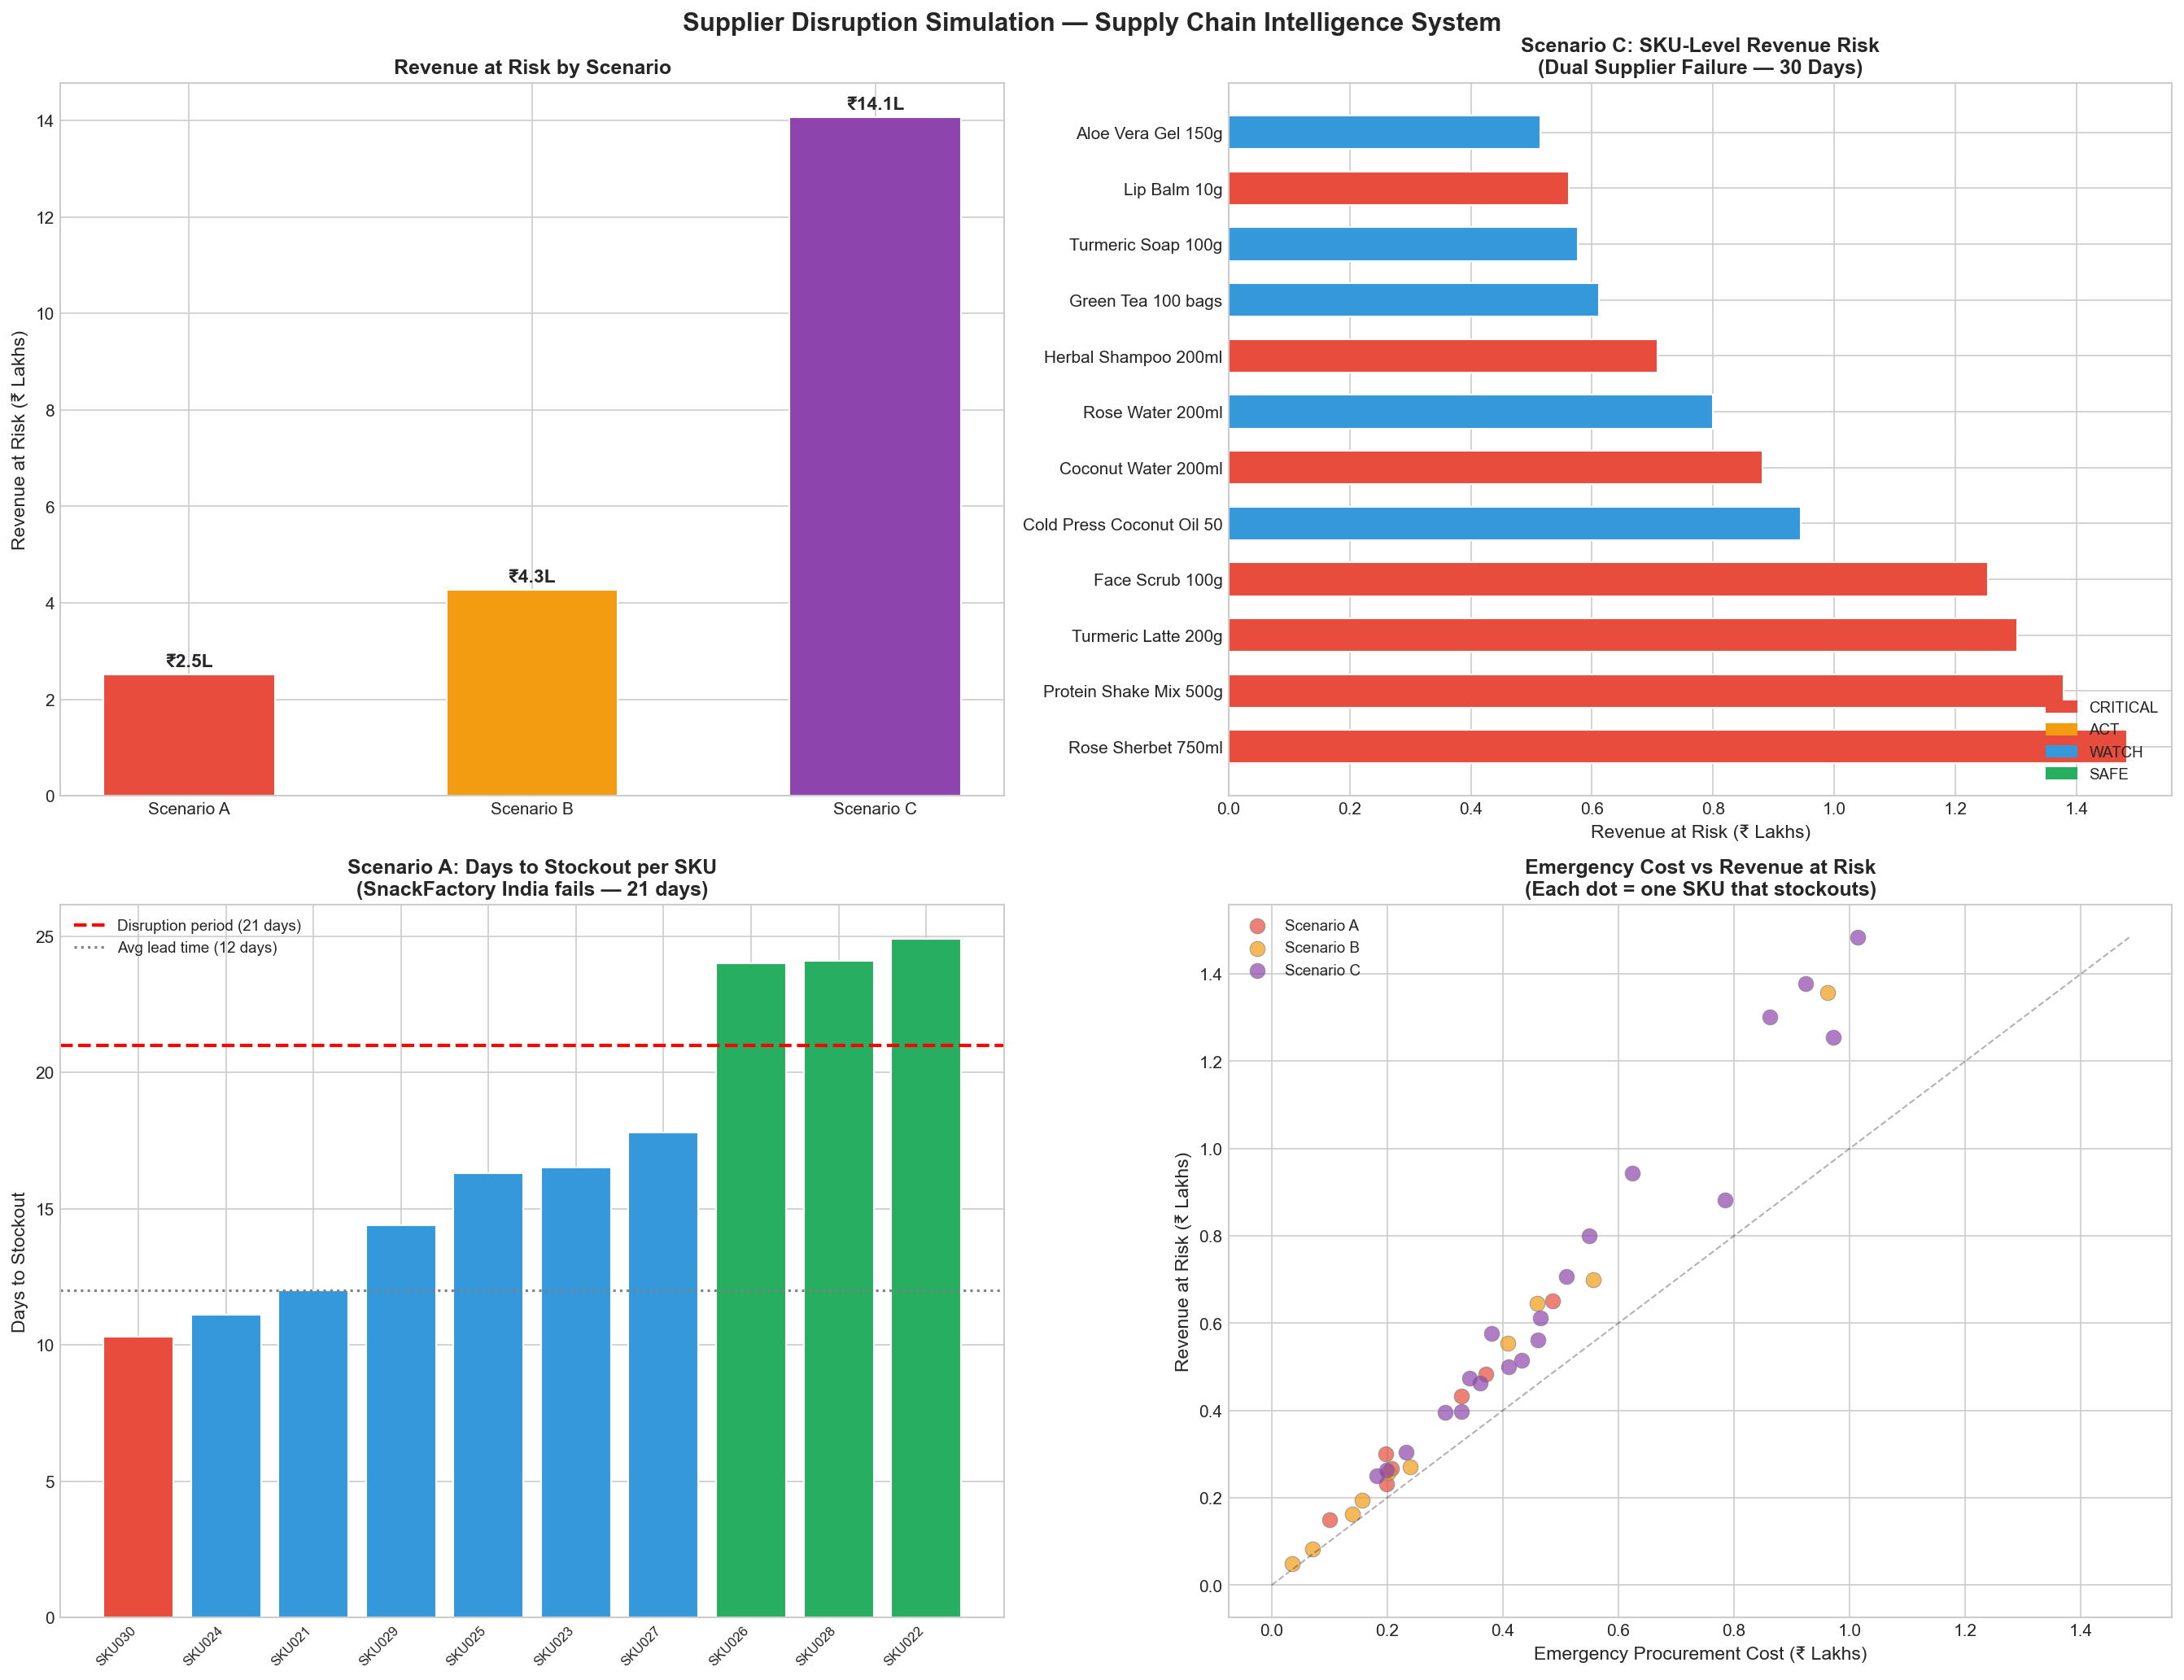

What the dashboard file says about the page in this screenshot:
{"tool":"powerbi","page":{"name":"Disruption Simulation","canvas":[1280,720],"ordinal":4},"visuals":[{"type":"textbox","box":[120.4,0,855.4,81.3],"z":0},{"type":"card","fields":{"Values":["_Measures.Total Revenue at Risk Scenarios"]},"box":[14.1,90.7,248,128.2],"z":1000},{"type":"card","fields":{"Values":["_Measures.SKUs at Critical Risk"]},"box":[764.7,90.7,248,128.2],"z":2000},{"type":"card","fields":{"Values":["_Measures.Total Emergency Cost"]},"box":[264.3,90.7,248,128],"z":3000},{"type":"card","fields":{"Values":["_Measures.Total Financial Exposure"]},"box":[514.5,90.7,248,128.2],"z":4000},{"type":"tableEx","title":"SKU-Level Disruption Impact Analysis","fields":{"Values":["disruption_scenarios.scenario","disruption_scenarios.supplier_name","disruption_scenarios.sku_id","disruption_scenarios.product_name","Sum(disruption_scenarios.current_stock)","Sum(disruption_scenarios.units_short)","Sum(disruption_scenarios.days_to_stockout)","Sum(disruption_scenarios.revenue_at_risk_inr)","Sum(disruption_scenarios.emergency_cost_inr)","disruption_scenarios.urgency_level","disruption_scenarios.recommended_action"]},"box":[14.1,229.9,866,237.7],"z":5000},{"type":"scatterChart","title":"Emergency Cost vs Revenue at Risk per SKU","fields":{"X":["Sum(disruption_scenarios.emergency_cost_inr)"],"Y":["disruption_scenarios.revenue_at_risk_inr"],"Series":["disruption_scenarios.urgency_level"]},"box":[885.1,229.9,378.5,237.7],"z":6000},{"type":"clusteredBarChart","title":"Days to Stockout per SKU","fields":{"Category":["disruption_scenarios.sku_id"],"Y":["Avg(disruption_scenarios.days_to_stockout)"]},"box":[452,473.9,428.5,242.4],"z":8000},{"type":"card","fields":{"Values":["_Measures.SKUs That Stockout"]},"box":[1014.9,90.7,248,128.2],"z":9000},{"type":"slicer","fields":{"Values":["disruption_scenarios.scenario"]},"box":[1013.4,4.7,250.2,76.6],"z":10000},{"type":"clusteredColumnChart","title":"Revenue at Risk by Scenario (₹ Lakhs)","fields":{"Category":["disruption_scenarios.scenario"],"Y":["_Measures.Total Revenue at Risk Scenarios"]},"box":[14.1,473.9,428,243],"z":10001},{"type":"donutChart","title":"SKU Urgency Distribution","fields":{"Y":["CountNonNull(disruption_scenarios.sku_id)"],"Category":["disruption_scenarios.urgency_level"]},"box":[885,474,378,242],"z":10002}]}

Visuals, with their boxes on the page's 1280x720 design canvas (x1, y1, x2, y2). These are canvas units, not pixel positions in the 2184x1680 screenshot, which may show the page scaled, cropped or inside an application window:
textbox: 120:0:976:81
card - _Measures.Total Revenue at Risk Scenarios: 14:91:262:219
card - _Measures.SKUs at Critical Risk: 765:91:1013:219
card - _Measures.Total Emergency Cost: 264:91:512:219
card - _Measures.Total Financial Exposure: 514:91:762:219
"SKU-Level Disruption Impact Analysis" tableEx: 14:230:880:468
"Emergency Cost vs Revenue at Risk per SKU" scatterChart: 885:230:1264:468
"Days to Stockout per SKU" clusteredBarChart: 452:474:880:716
card - _Measures.SKUs That Stockout: 1015:91:1263:219
slicer - disruption_scenarios.scenario: 1013:5:1264:81
"Revenue at Risk by Scenario (₹ Lakhs)" clusteredColumnChart: 14:474:442:717
"SKU Urgency Distribution" donutChart: 885:474:1263:716
